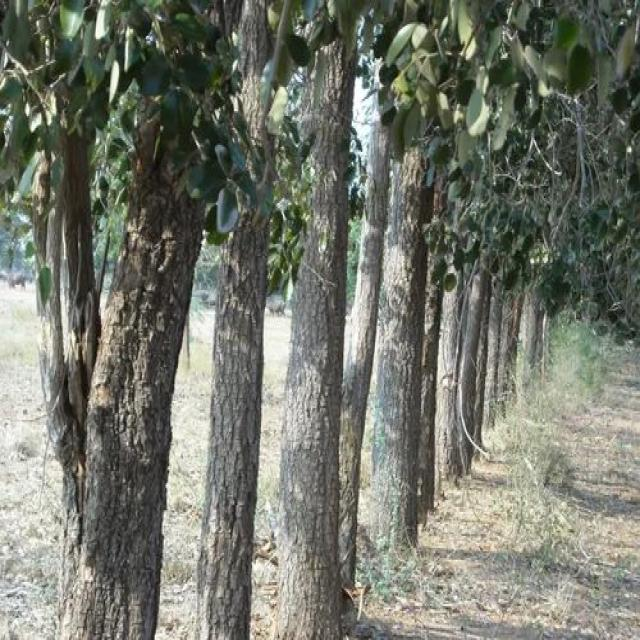Medicinal-Sandalwood: (365, 0, 640, 564), (4, 0, 235, 640), (234, 1, 364, 640)
